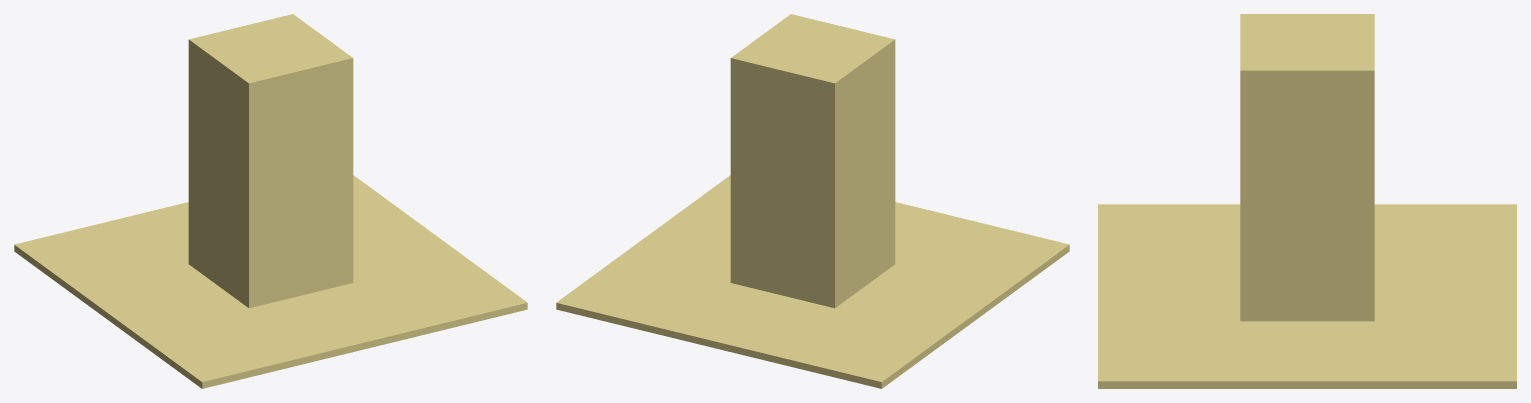
The picture shows the model from 3 angles, left to right: view 1: azimuth 30°, elevation 25°; view 2: azimuth 150°, elevation 25°; view 3: azimuth 270°, elevation 25°; orthographic projection. The views are drawn at different scales.
Visible parts, largest first — view 1: Quarter 1 1, Tower 1 1; view 2: Quarter 1 1, Tower 1 1; view 3: Quarter 1 1, Tower 1 1.
Boxes of the visible parts, left/top/right/bottom form: Quarter 1 1: left=14, top=175, right=527, bottom=388; Tower 1 1: left=188, top=14, right=353, bottom=308; Quarter 1 1: left=556, top=175, right=1069, bottom=388; Tower 1 1: left=730, top=14, right=895, bottom=308; Quarter 1 1: left=1098, top=204, right=1516, bottom=388; Tower 1 1: left=1240, top=14, right=1374, bottom=321.
Bounding box in the file's own units: 50 × 34 × 50.
